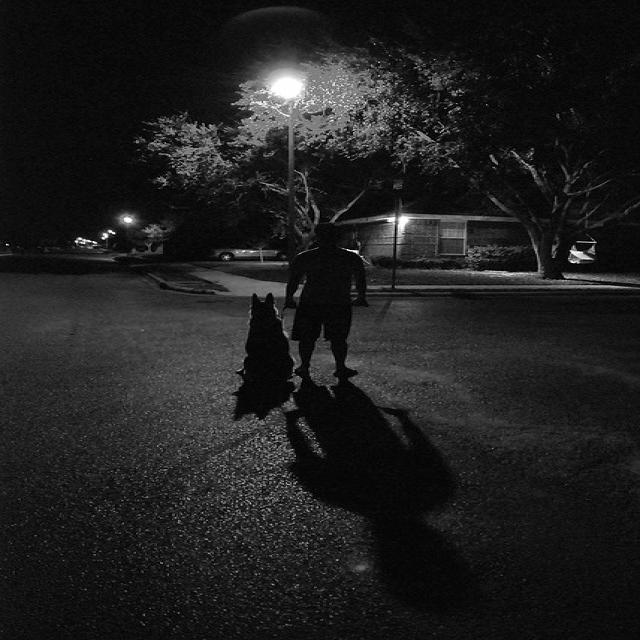dog: (199, 288, 323, 398)
